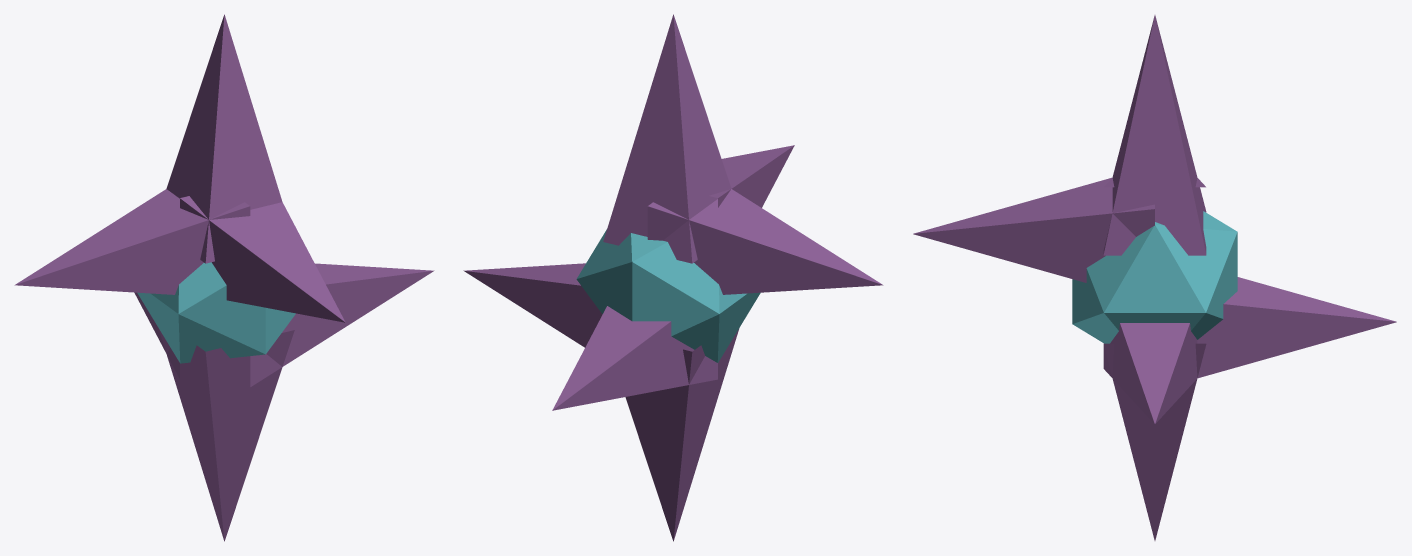
File: spark.glb
3 views of the same model, side by side, from view 1: azimuth 30°, elevation 25°; view 2: azimuth 150°, elevation 25°; view 3: azimuth 270°, elevation 25° (orthographic).
Visible parts, largest first — view 1: spark; view 2: spark; view 3: spark.
Boxes of the visible parts, x1,y1,x2,y2 form: spark: (14,14,434,541); spark: (463,14,883,541); spark: (913,15,1396,540).
Bounding box in the file's own units: 0.4 × 0.48 × 0.4.
